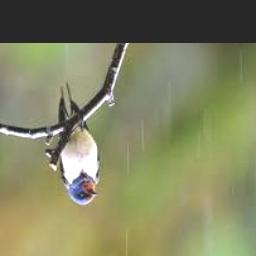Swallow: (58, 82, 101, 205)
